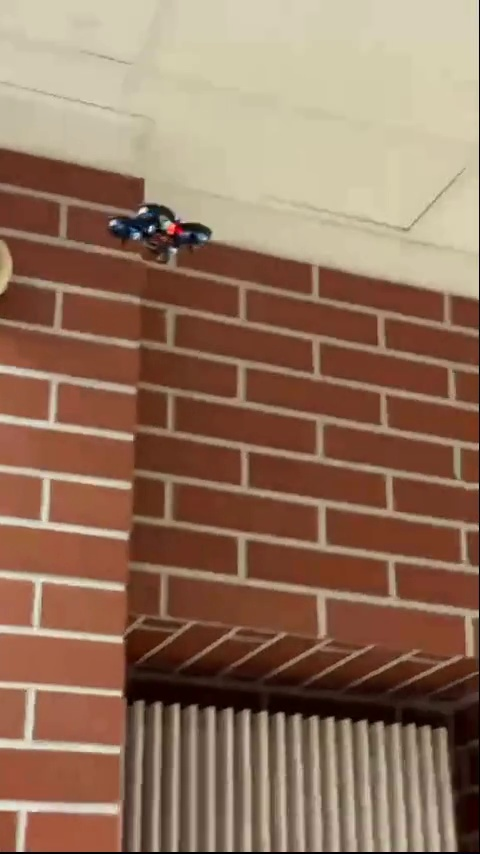drone: (108, 201, 206, 271)
